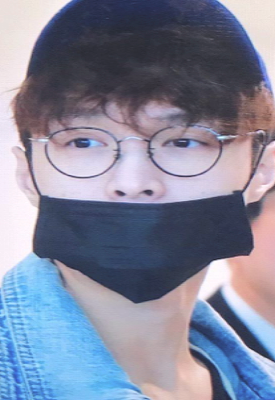mask_weared_incorrect: (30, 107, 256, 304)
